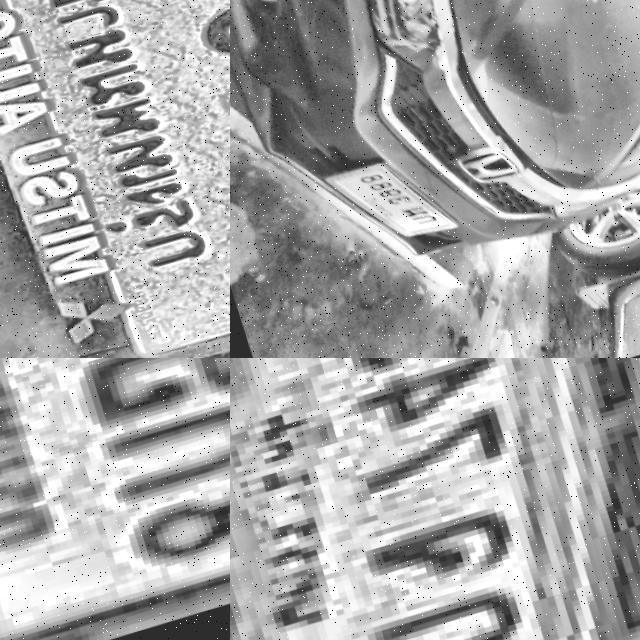license-plate: (230, 358, 640, 640), (0, 0, 230, 358), (0, 358, 230, 640), (313, 142, 458, 263)
